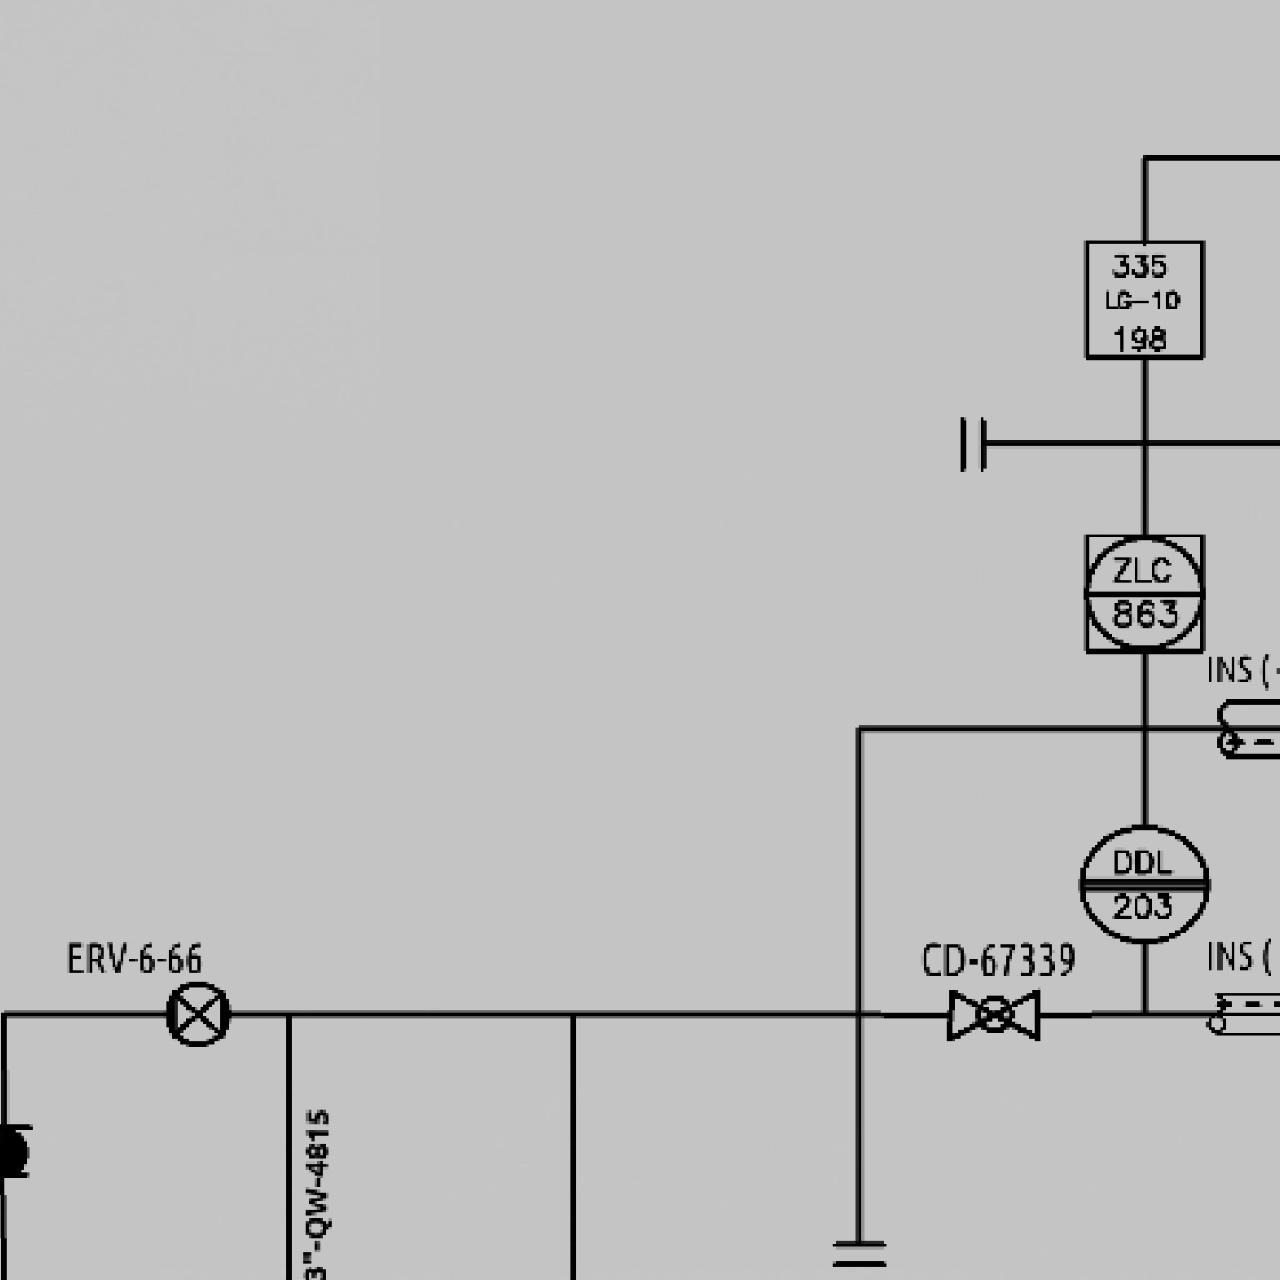Control-Panel: (1074, 813, 1213, 953)
